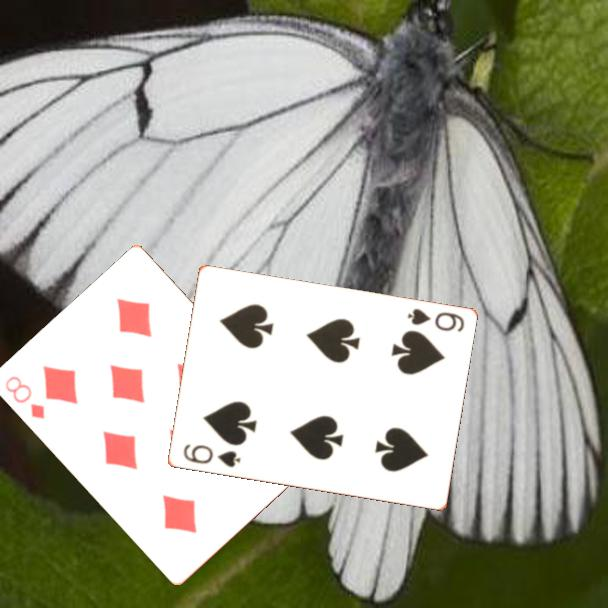d08: (2, 373, 48, 422)
s06: (179, 441, 243, 471), (404, 305, 467, 335)
